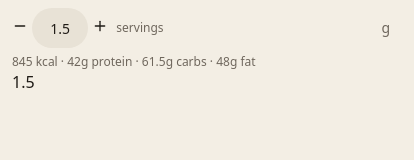
Test: ServingAmount › grams, one tap away › gives back the same half serving that went in
Click the button named "Enter the amount in grams".
click(386, 28)  # box [369,8,402,48]
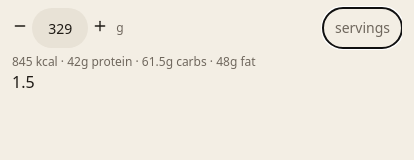
Expected: the field named "Amount in grams" holds "329", [32,8,88,48]
Click the button with aria-label "Enter the amount in servings".
click(362, 28)  # box [323,8,402,48]
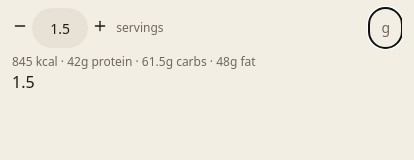
Expected: the text with test id "amount" reads "1.5", [12,71,35,93]
Expected: the field named "Amount in servings" holds "1.5", [32,8,88,48]
